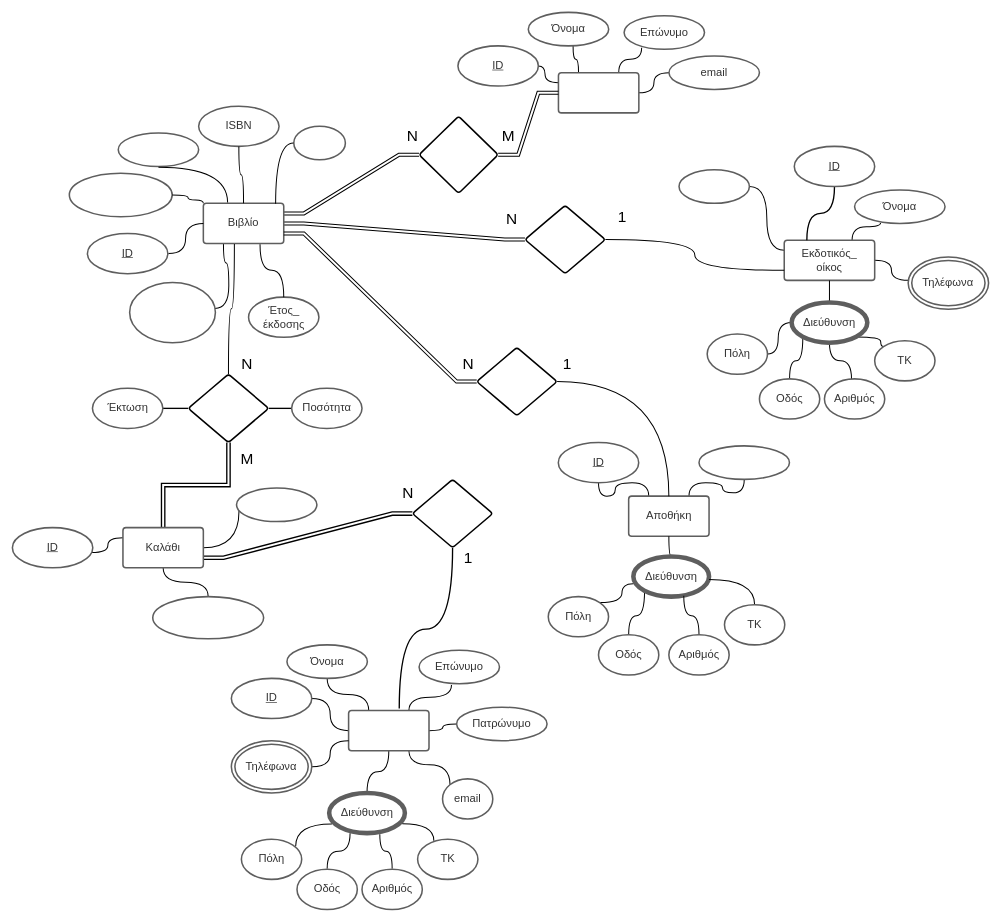
Image size: 1001x922. Some labels were removed from this diagram. Here are the shapes that lost their labels. From the top down, the box of each, then its label:
(557, 72, 639, 113): Συγγραφέας
(117, 132, 199, 167): Τίτλος
(293, 125, 346, 160): Τιμή
(418, 115, 499, 194): Γράφτηκε
(68, 172, 173, 217): Διαθέσιμη_ ποσότητα
(678, 169, 750, 204): URL
(524, 204, 606, 274): Εκδίδεται
(129, 281, 216, 343): ID_ εκδοτικού_ οίκου
(476, 346, 558, 416): Βρίσκεται
(187, 373, 269, 443): Περιέχει
(698, 445, 790, 480): Τηλέφωνο
(235, 487, 317, 522): Ημερομηνία
(411, 478, 493, 548): Διαθέτει
(152, 596, 264, 639): ID_πελάτη
(348, 709, 429, 751): Πελάτης
